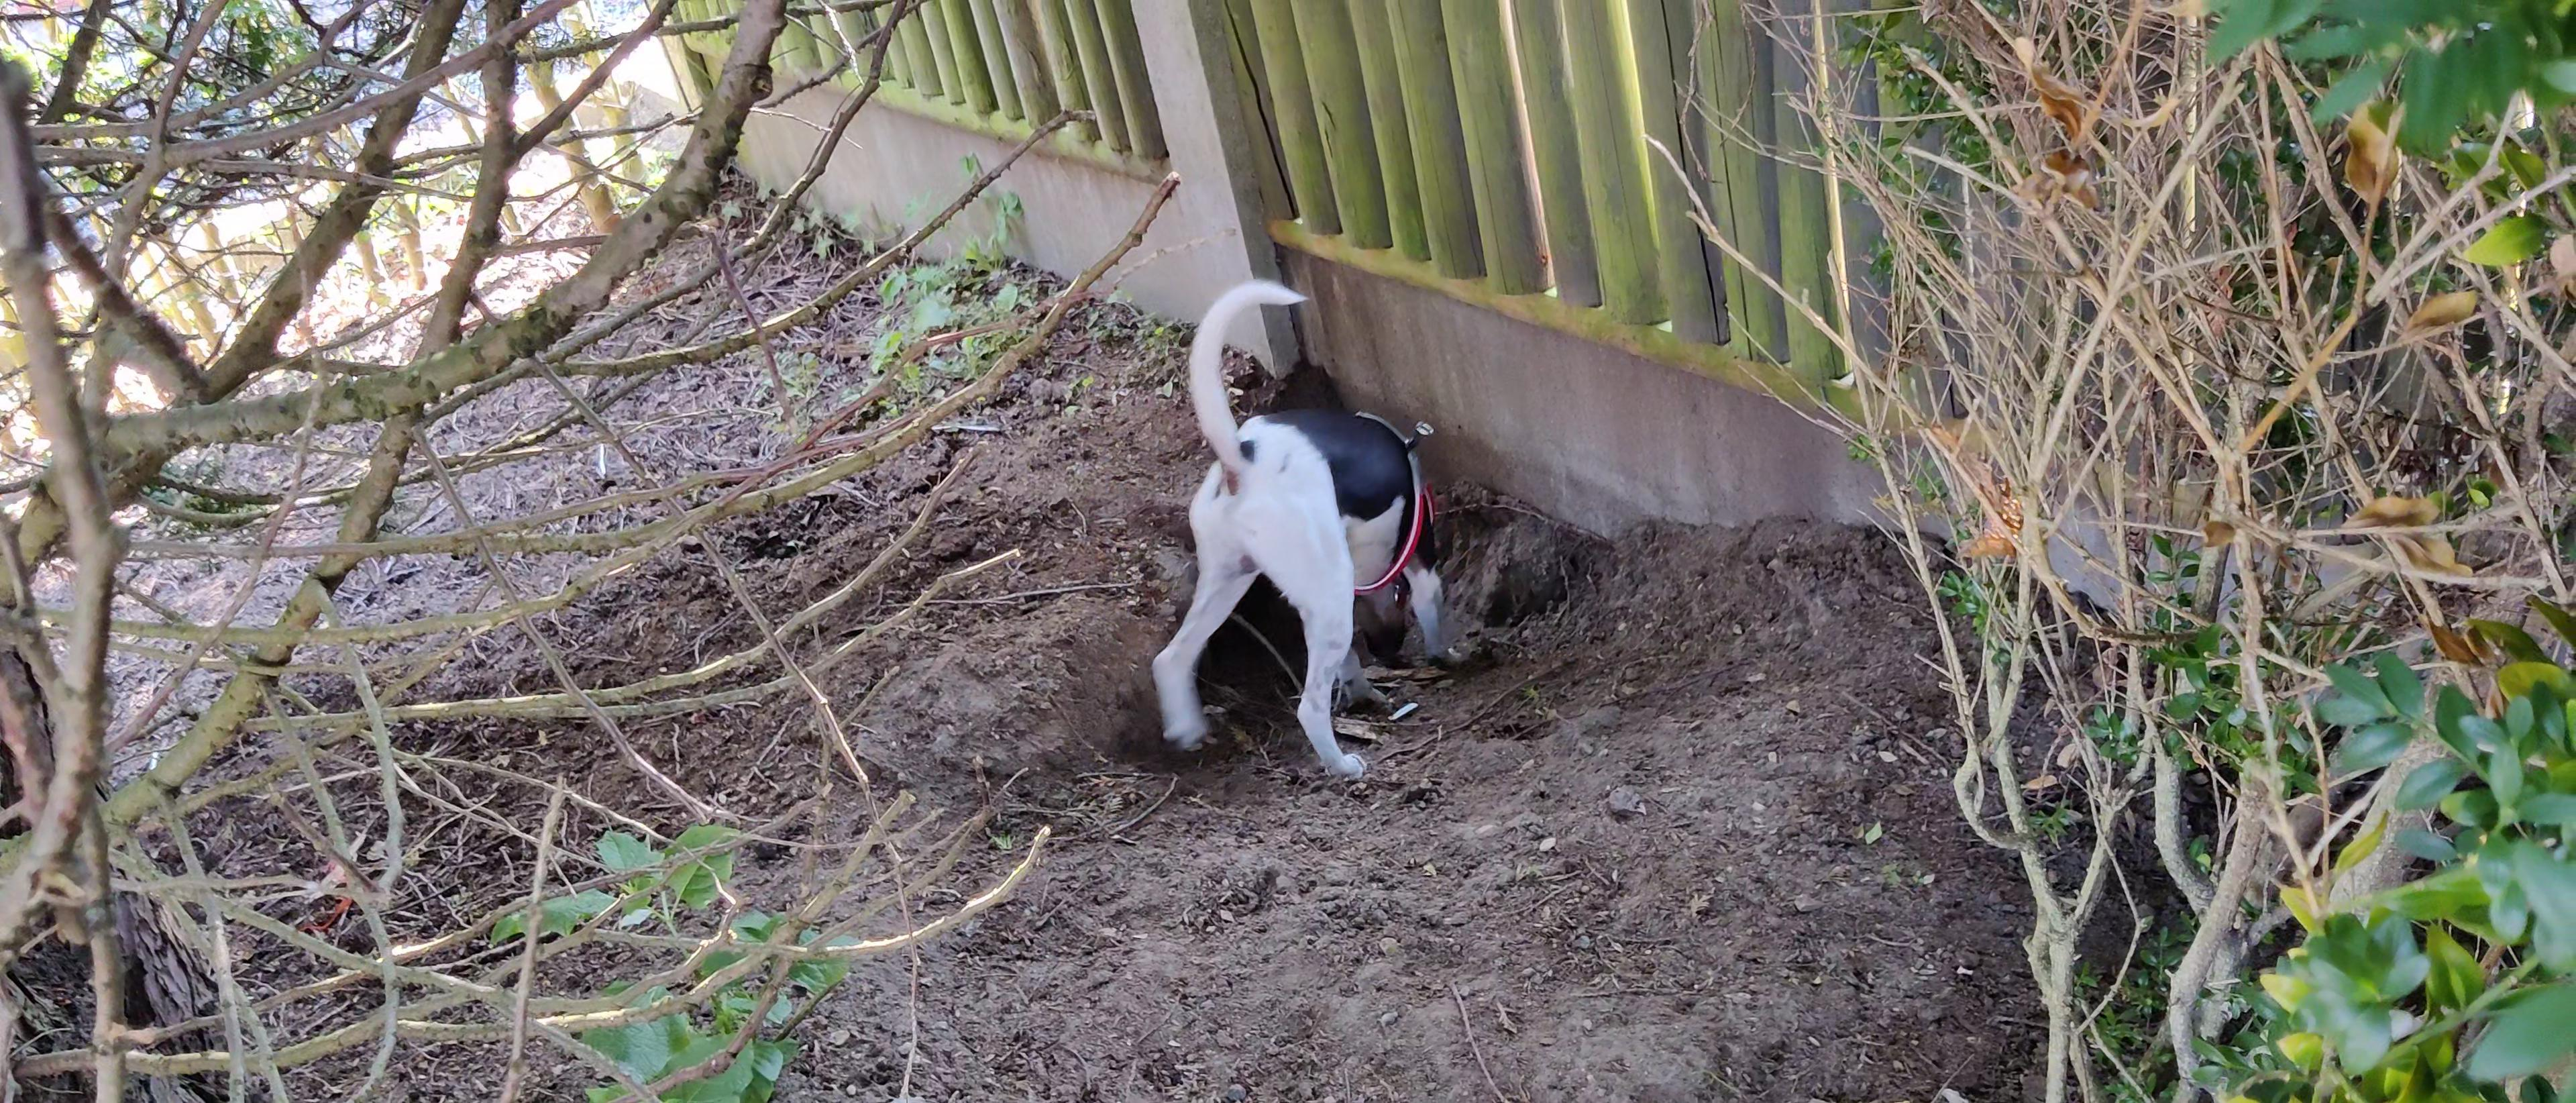Dog: (1140, 265, 1479, 782)
